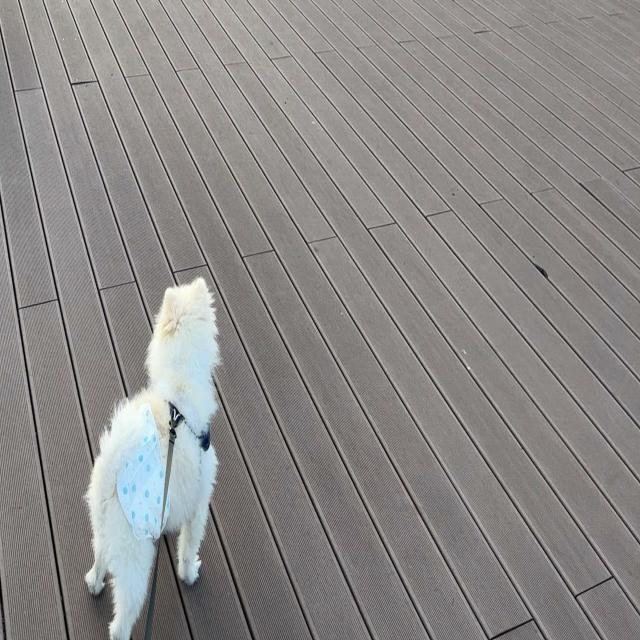Dog: (84, 276, 220, 640)
